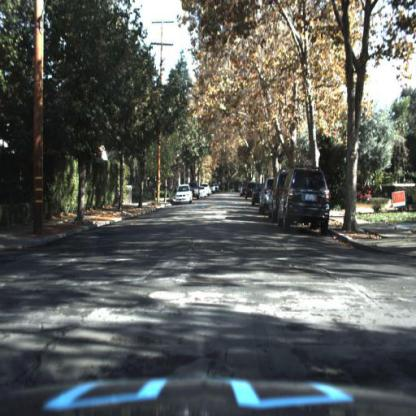car: (279, 166, 332, 237), (270, 170, 288, 227), (269, 172, 285, 229), (260, 176, 273, 221), (260, 175, 272, 218), (175, 183, 194, 207), (175, 185, 193, 205), (191, 181, 201, 204), (198, 186, 209, 203)
